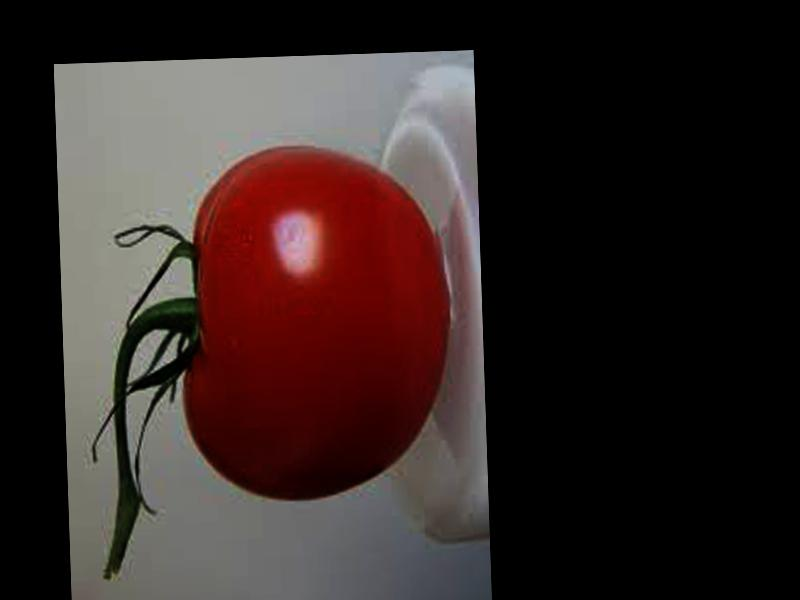Tomato: (176, 141, 454, 504)
